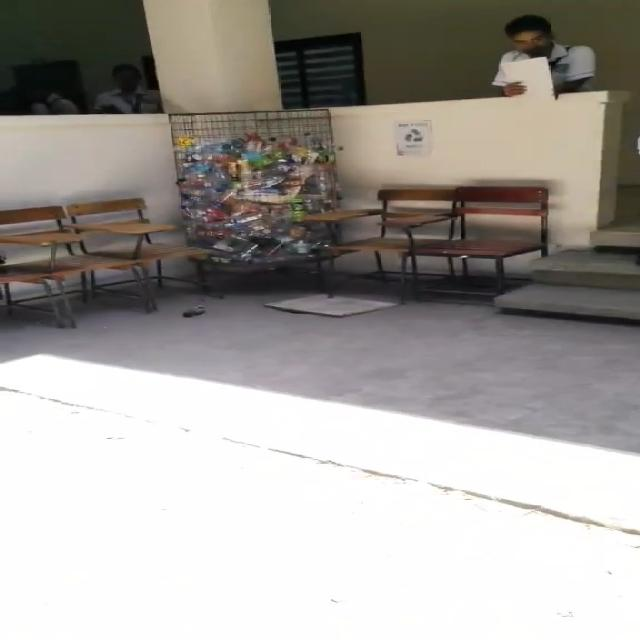Bottle: (183, 305, 206, 318)
